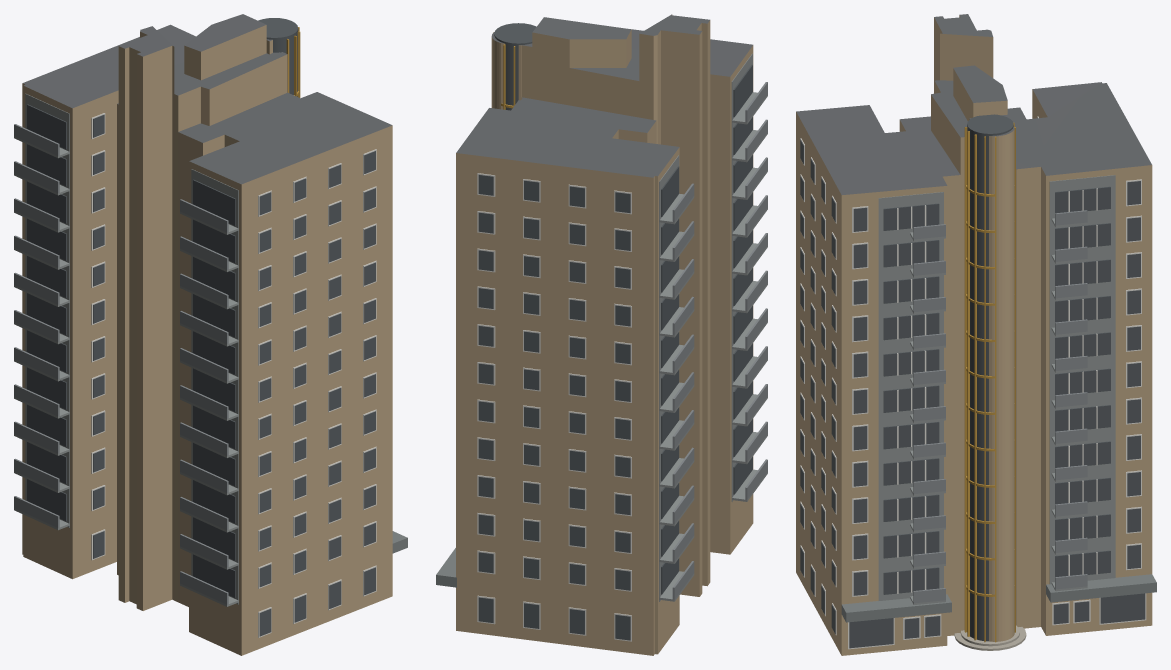
Rendered from wolkenkrabber.glb.
The picture shows the model from 3 angles, left to right: view 1: azimuth 30°, elevation 25°; view 2: azimuth 150°, elevation 25°; view 3: azimuth 270°, elevation 25°; orthographic projection. The views are drawn at different scales.
Visible parts, largest first — view 1: wolkenkrabber; view 2: wolkenkrabber; view 3: wolkenkrabber.
Boxes of the visible parts, <box> form: wolkenkrabber: <box>14,14,407,655</box>; wolkenkrabber: <box>436,14,767,655</box>; wolkenkrabber: <box>796,14,1156,655</box>.
Size of the model in its own units: 23.88 by 47.4 by 28.57.
